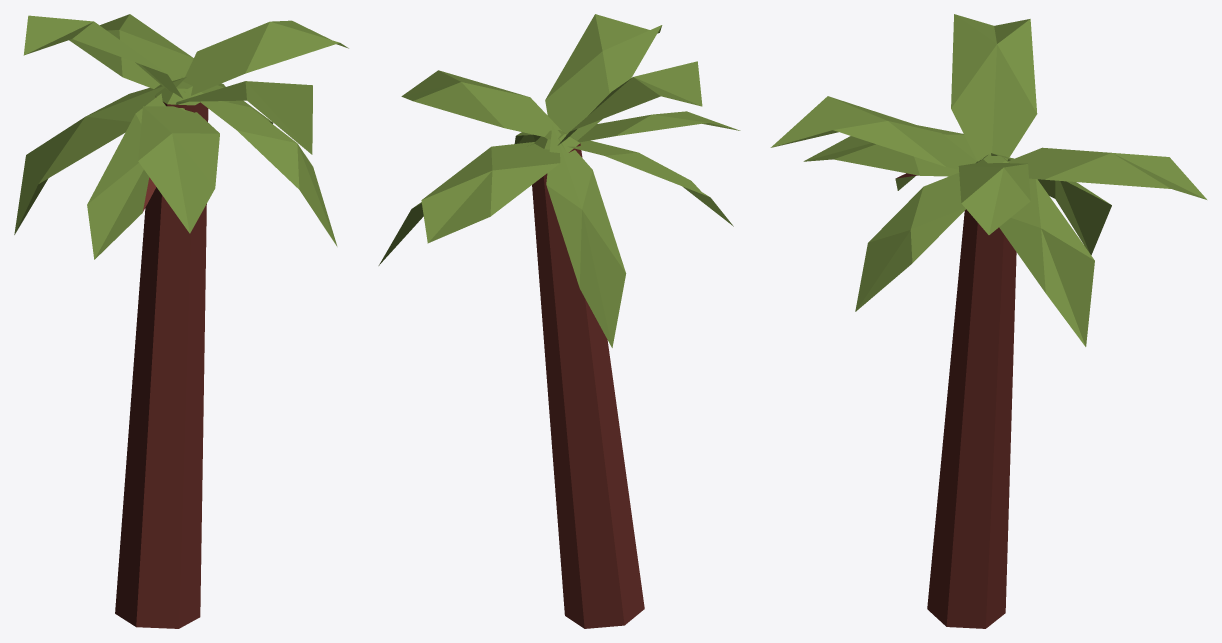
File: palmTree.fbx
3 views of the same model, side by side, from view 1: azimuth 30°, elevation 25°; view 2: azimuth 150°, elevation 25°; view 3: azimuth 270°, elevation 25° (orthographic). The views are drawn at different scales.
Visible parts, largest first — view 1: Plane|Cylinder.001|Dupli|1; view 2: Plane|Cylinder.001|Dupli|1; view 3: Plane|Cylinder.001|Dupli|1.
Boxes of the visible parts, x1=… form: Plane|Cylinder.001|Dupli|1: x1=14, y1=14, x2=348, y2=628; Plane|Cylinder.001|Dupli|1: x1=378, y1=14, x2=740, y2=628; Plane|Cylinder.001|Dupli|1: x1=770, y1=14, x2=1206, y2=628.
Bounding box in the file's own units: 85.54 × 154 × 109.
